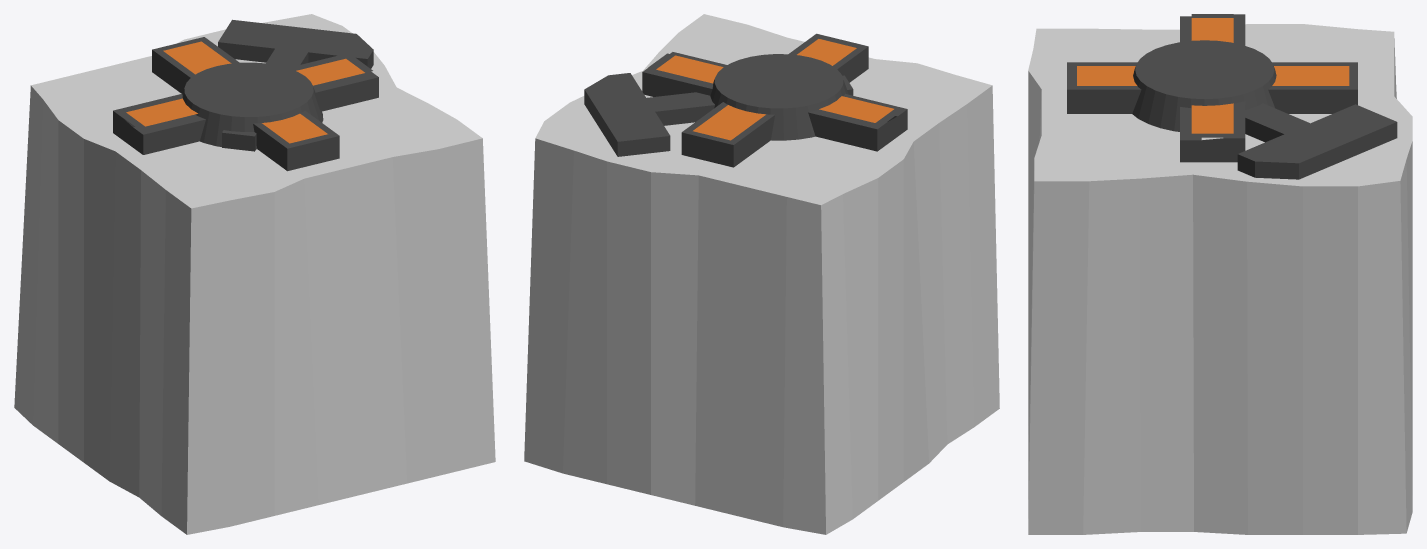
Rendered from repaair_new.fbx.
The picture shows the model from 3 angles, left to right: view 1: azimuth 30°, elevation 25°; view 2: azimuth 150°, elevation 25°; view 3: azimuth 270°, elevation 25°; orthographic projection. The views are drawn at different scales.
Visible parts, largest first — view 1: RepairNewNew; view 2: RepairNewNew; view 3: RepairNewNew.
Part boxes in pixels (x1,y1,x2,y2): RepairNewNew: (14,14,495,534); RepairNewNew: (524,14,999,534); RepairNewNew: (1028,14,1412,534).
Size of the model in its own units: 200 by 217 by 200.
